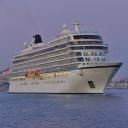cruises: (7, 18, 125, 97)
